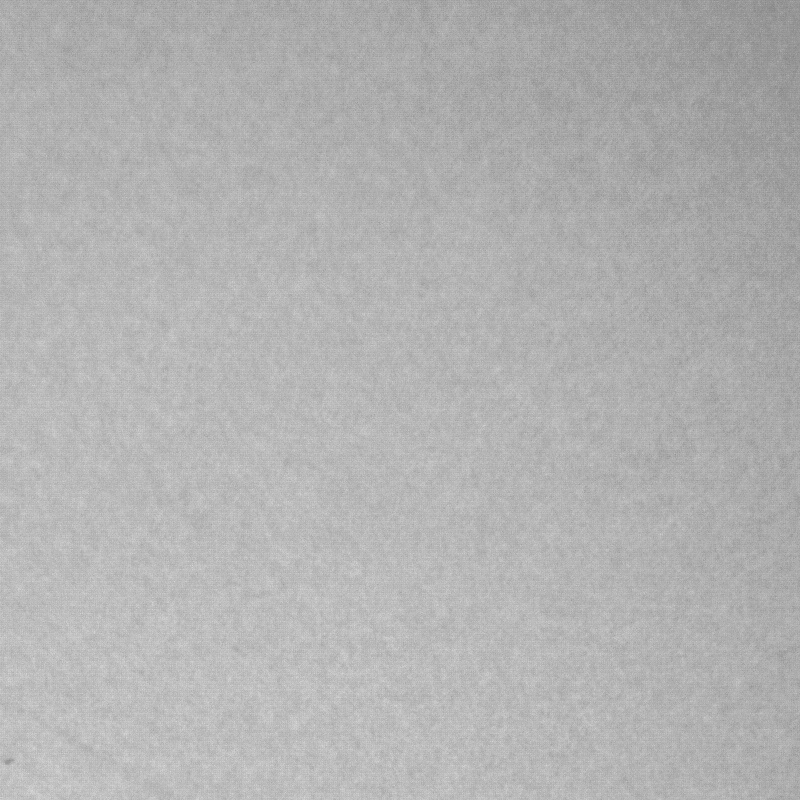defect: (2, 754, 14, 771)
